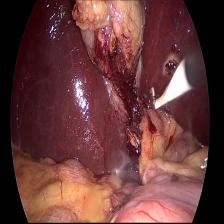Hook: (148, 53, 190, 123)
